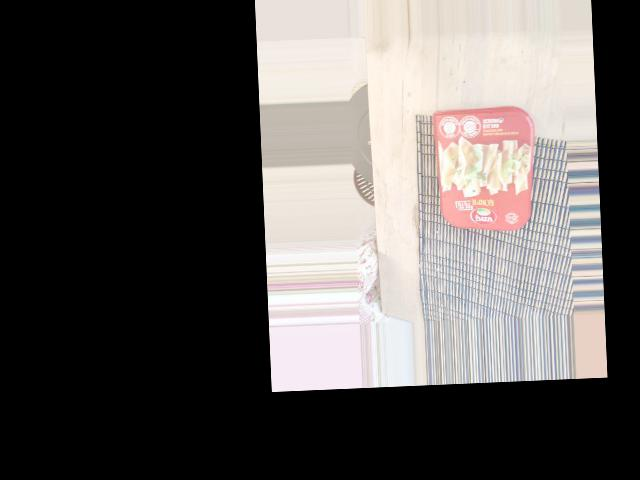cheese: (444, 186, 580, 278)
